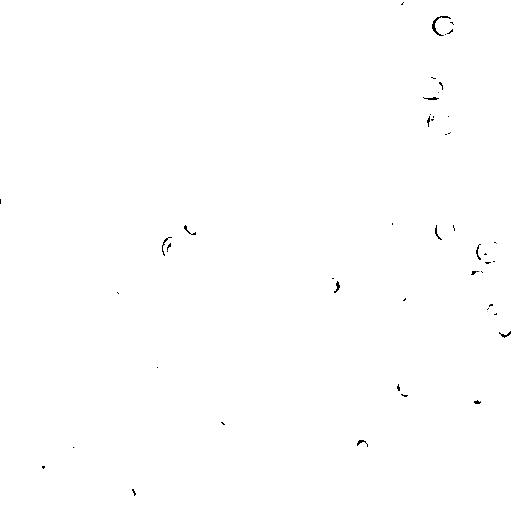micro-algae: (21, 17, 139, 131), (151, 1, 259, 60), (159, 341, 236, 417), (1, 203, 54, 313), (211, 442, 295, 511), (66, 242, 131, 308), (425, 106, 456, 137), (141, 239, 171, 269), (31, 450, 61, 479), (386, 279, 414, 310), (217, 105, 245, 135), (373, 463, 403, 491), (108, 431, 135, 461), (476, 235, 503, 264), (15, 409, 41, 438), (161, 235, 189, 261), (417, 75, 444, 101), (257, 21, 283, 46), (84, 277, 111, 301), (153, 0, 182, 20), (431, 14, 456, 37), (467, 267, 492, 290), (147, 73, 169, 99), (65, 441, 87, 465), (249, 421, 271, 445), (396, 375, 418, 399), (435, 216, 456, 241), (185, 111, 207, 133), (73, 259, 96, 279), (321, 274, 342, 295), (314, 501, 357, 511), (217, 403, 235, 426), (409, 211, 425, 236), (177, 285, 198, 304), (182, 219, 202, 237), (49, 105, 70, 122), (500, 353, 511, 383), (392, 214, 406, 234), (123, 484, 139, 500), (485, 301, 501, 317), (325, 437, 340, 454), (355, 436, 370, 452), (471, 389, 486, 405), (497, 321, 511, 337), (106, 287, 121, 301), (152, 355, 165, 371), (389, 0, 407, 10), (1, 183, 10, 201), (89, 505, 111, 511)
